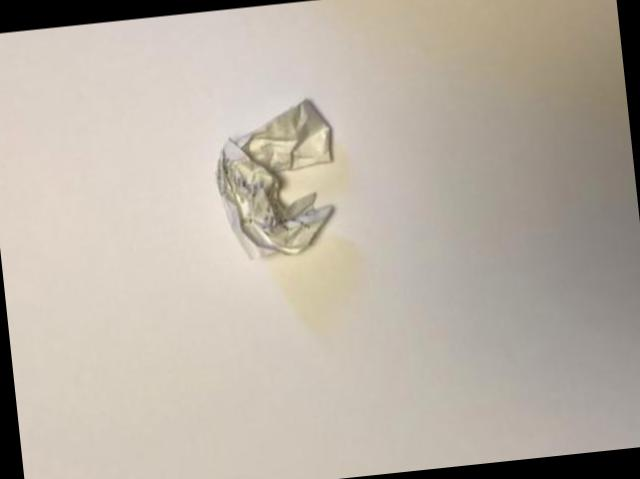cardboard paper: (214, 98, 330, 255)
